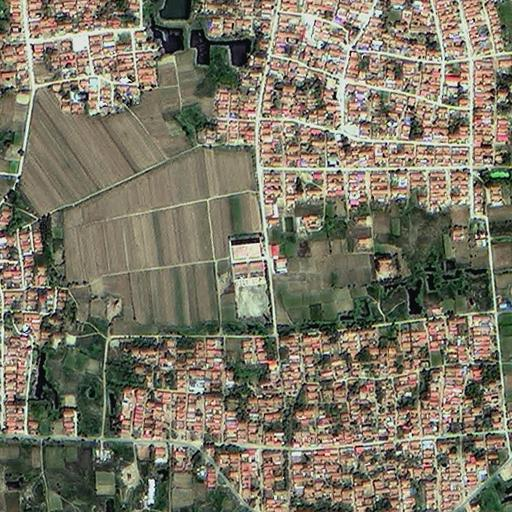school: (228, 234, 269, 317)
